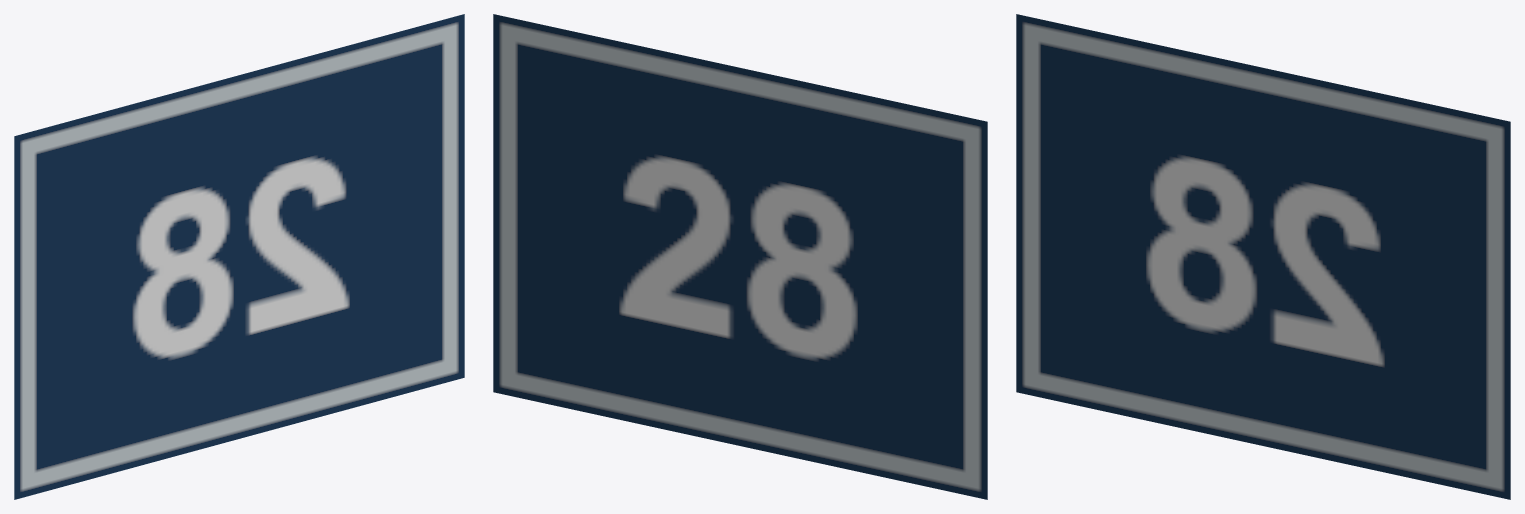
The model's file is cell-135_360.glb.
3 renders of one model, left to right at view 1: azimuth 30°, elevation 25°; view 2: azimuth 150°, elevation 25°; view 3: azimuth 330°, elevation 25°, orthographic. The views are drawn at different scales.
Parts seen in each view (by area): view 1: cell-135_360; view 2: cell-135_360; view 3: cell-135_360.
Part boxes in pixels (left/top/right/bottom): cell-135_360: left=14, top=14, right=464, bottom=499; cell-135_360: left=493, top=14, right=987, bottom=499; cell-135_360: left=1016, top=14, right=1510, bottom=499.
Bounding box in the file's own units: 0.1199 × 0.09 × 0.00571.
1 material, 1 textured.
